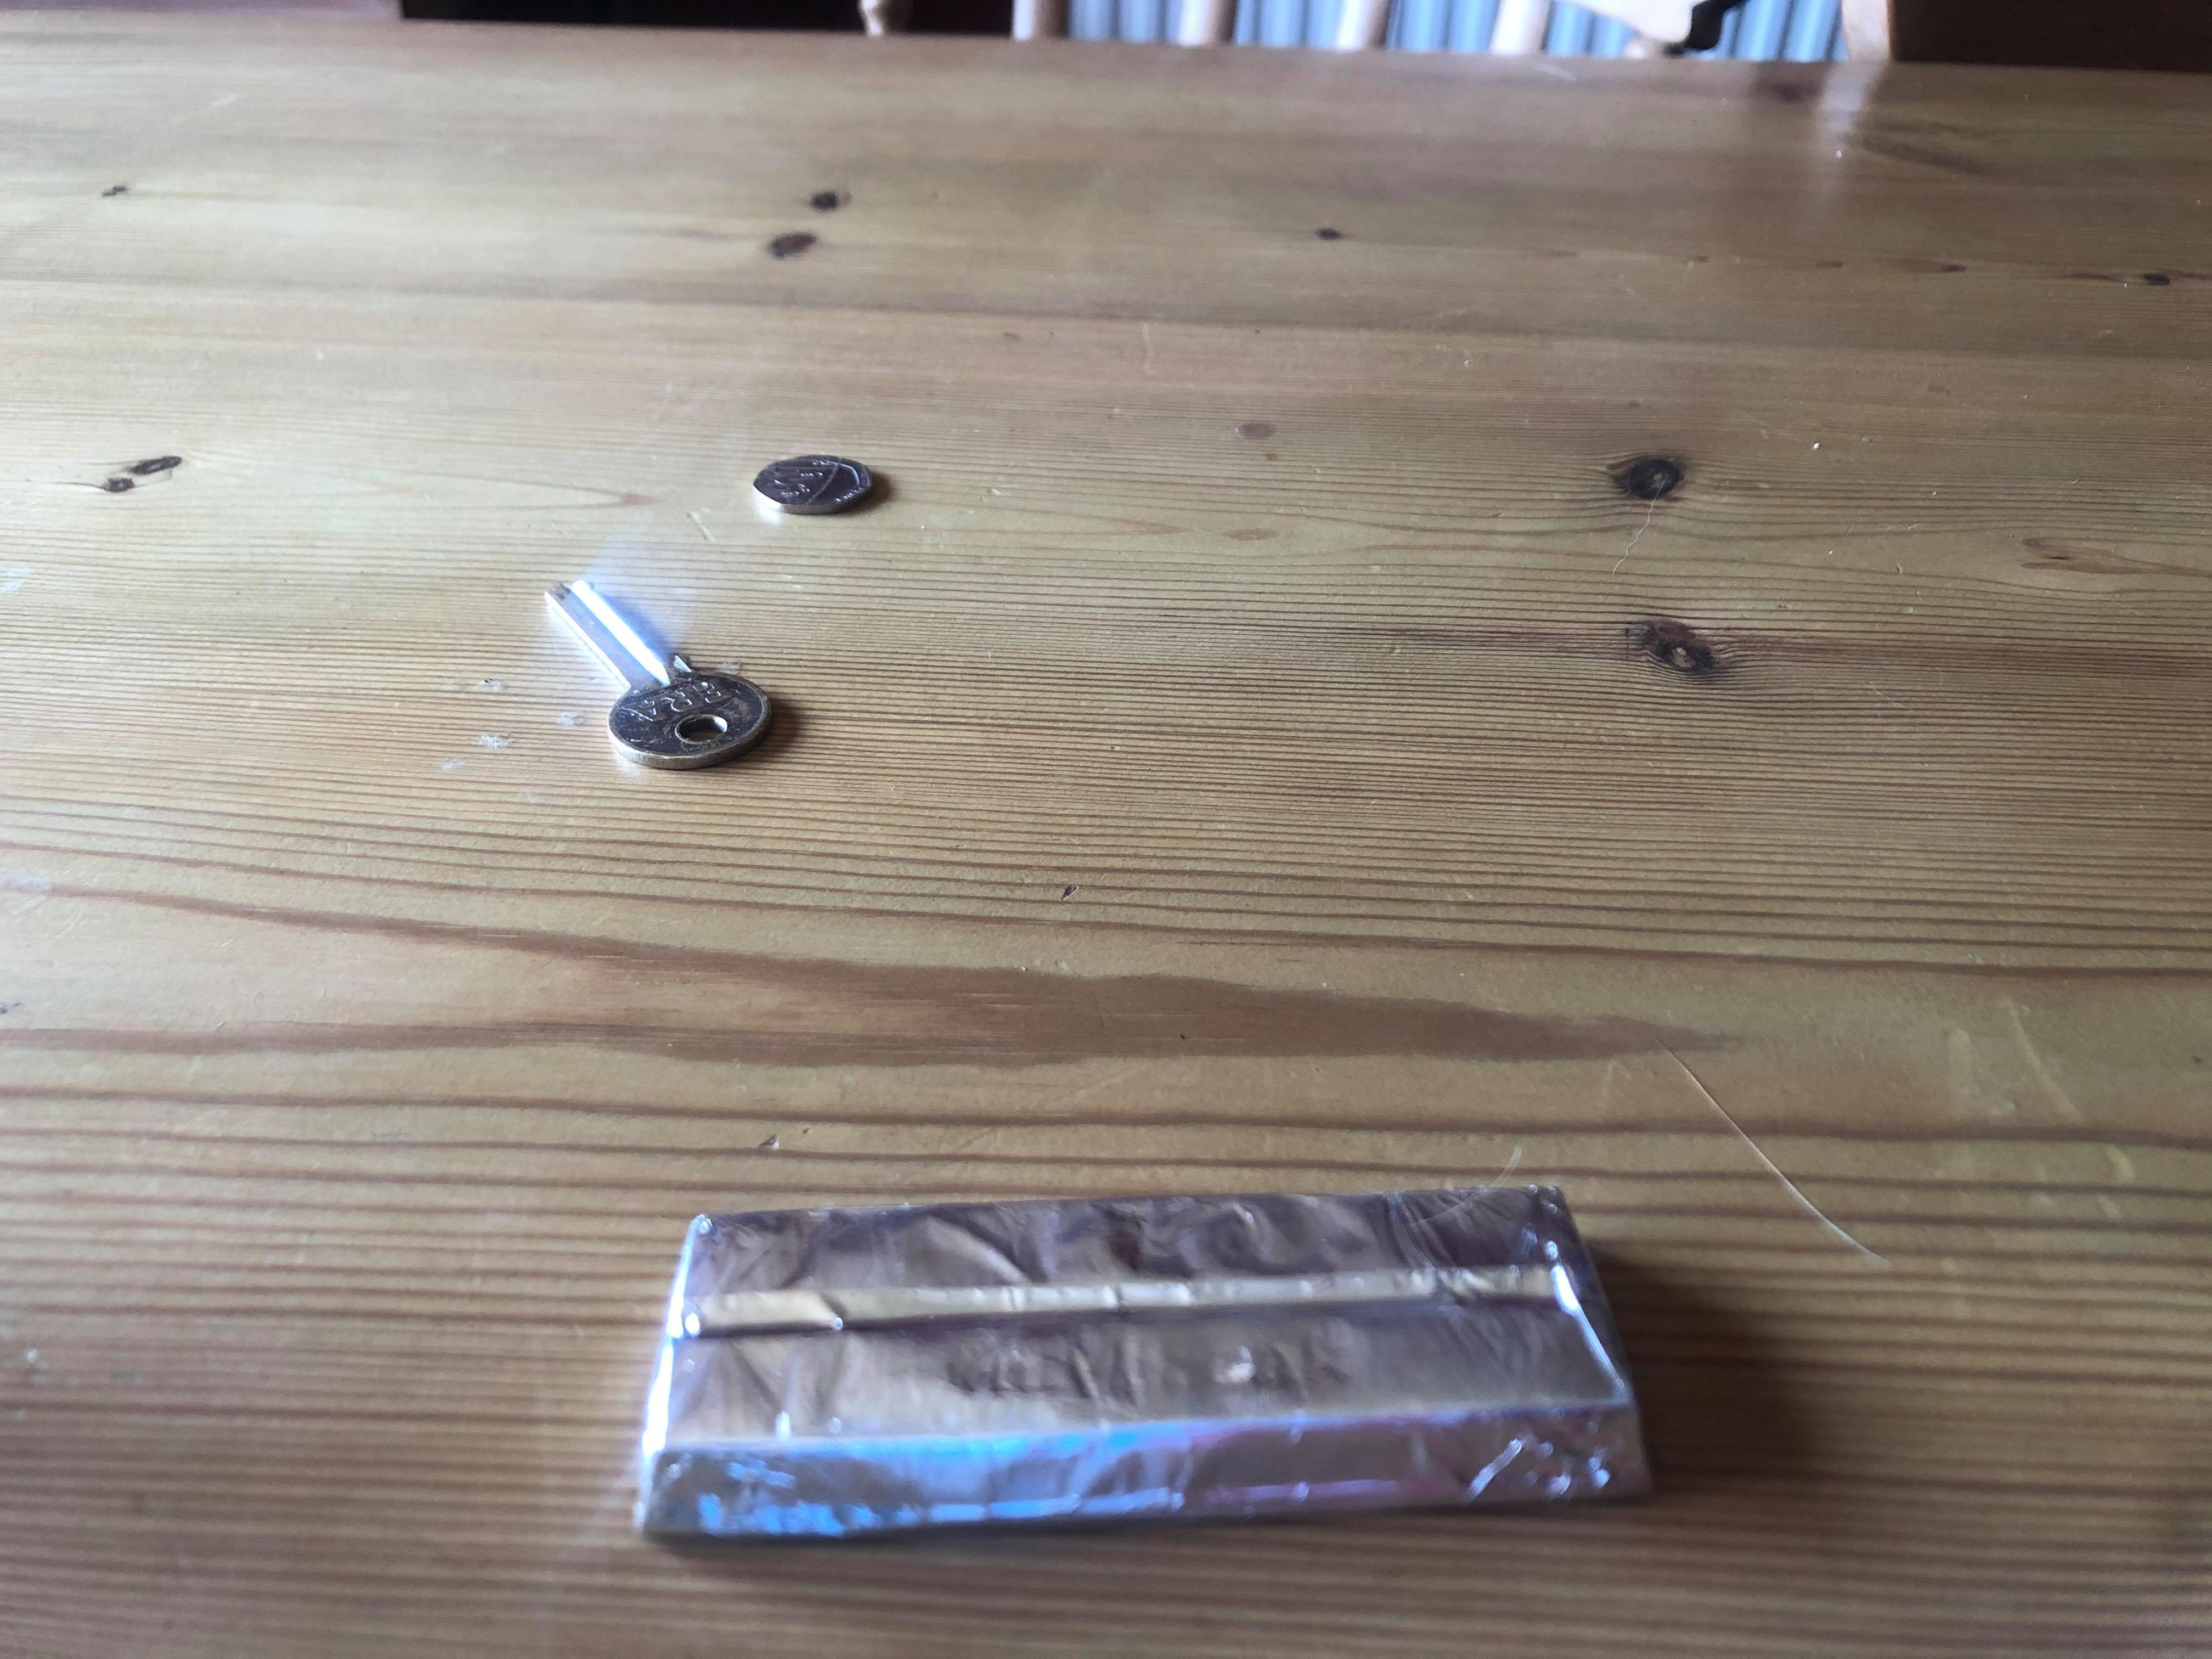Coin: (742, 446, 880, 514)
Foil: (622, 1168, 1683, 1554)
Key: (531, 570, 789, 784)
